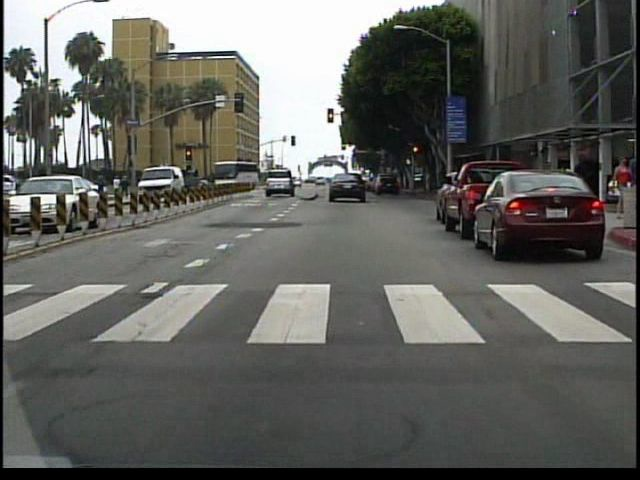person: (574, 153, 596, 216), (607, 158, 627, 221), (111, 173, 125, 202), (94, 172, 107, 203), (121, 175, 133, 192)
